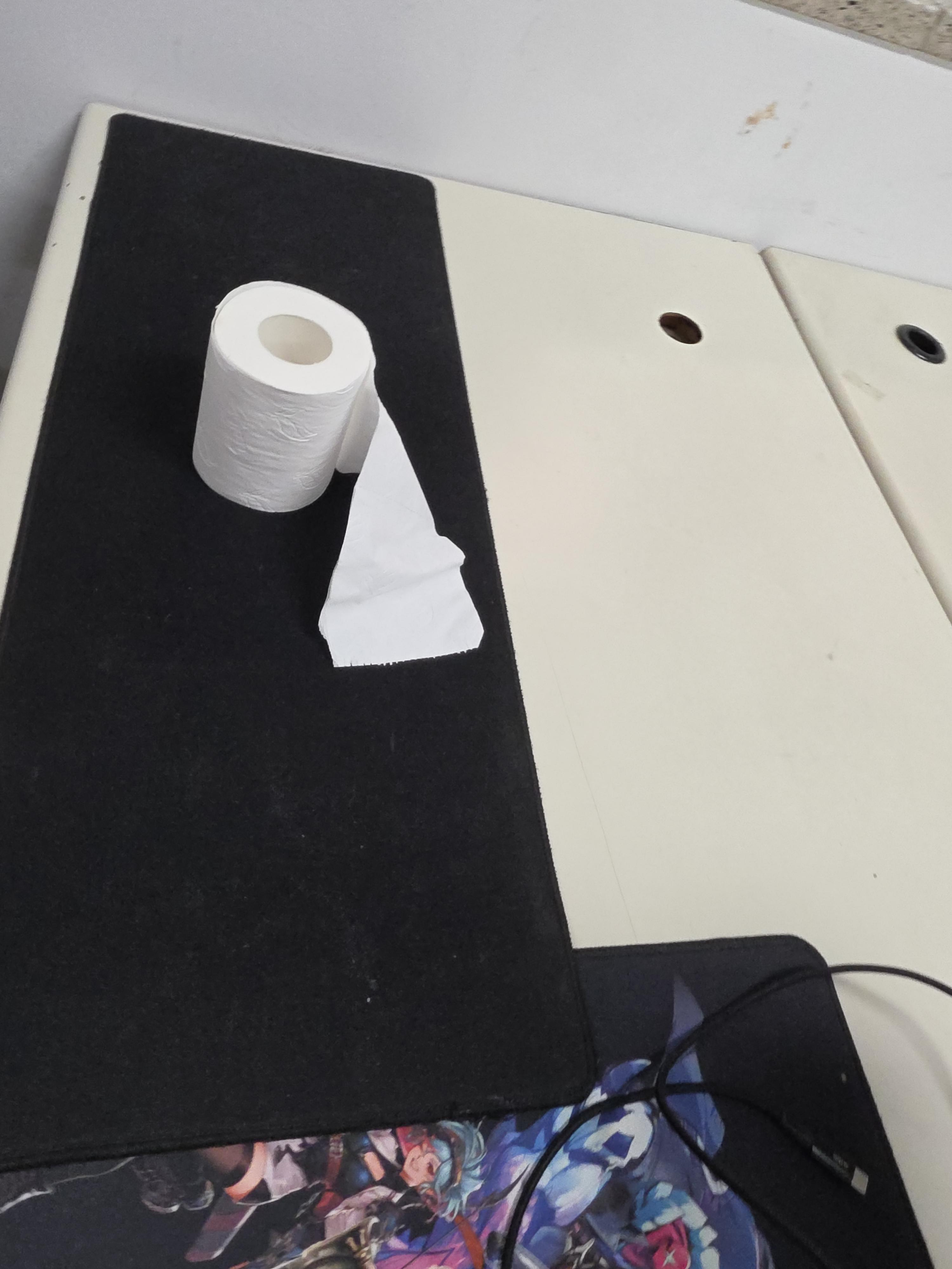tissue: (192, 279, 486, 668)
